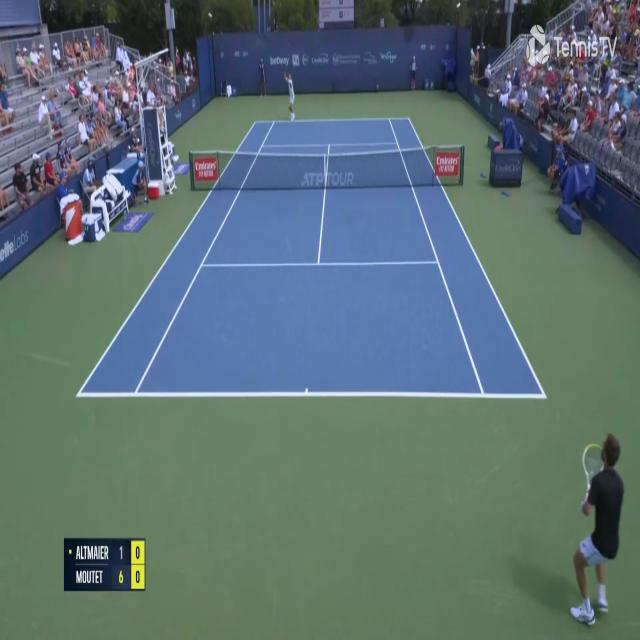tennis-player: (567, 430, 628, 630), (284, 70, 296, 121)
